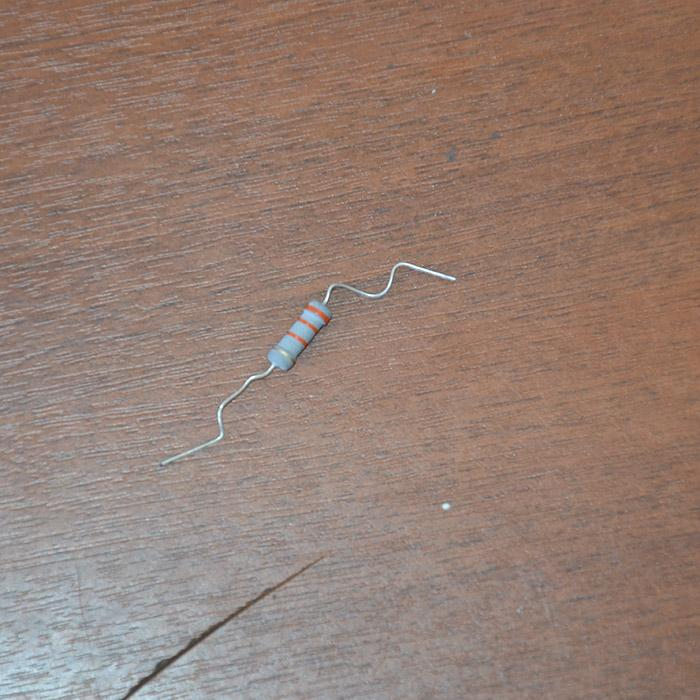resistor: (270, 298, 330, 369)
